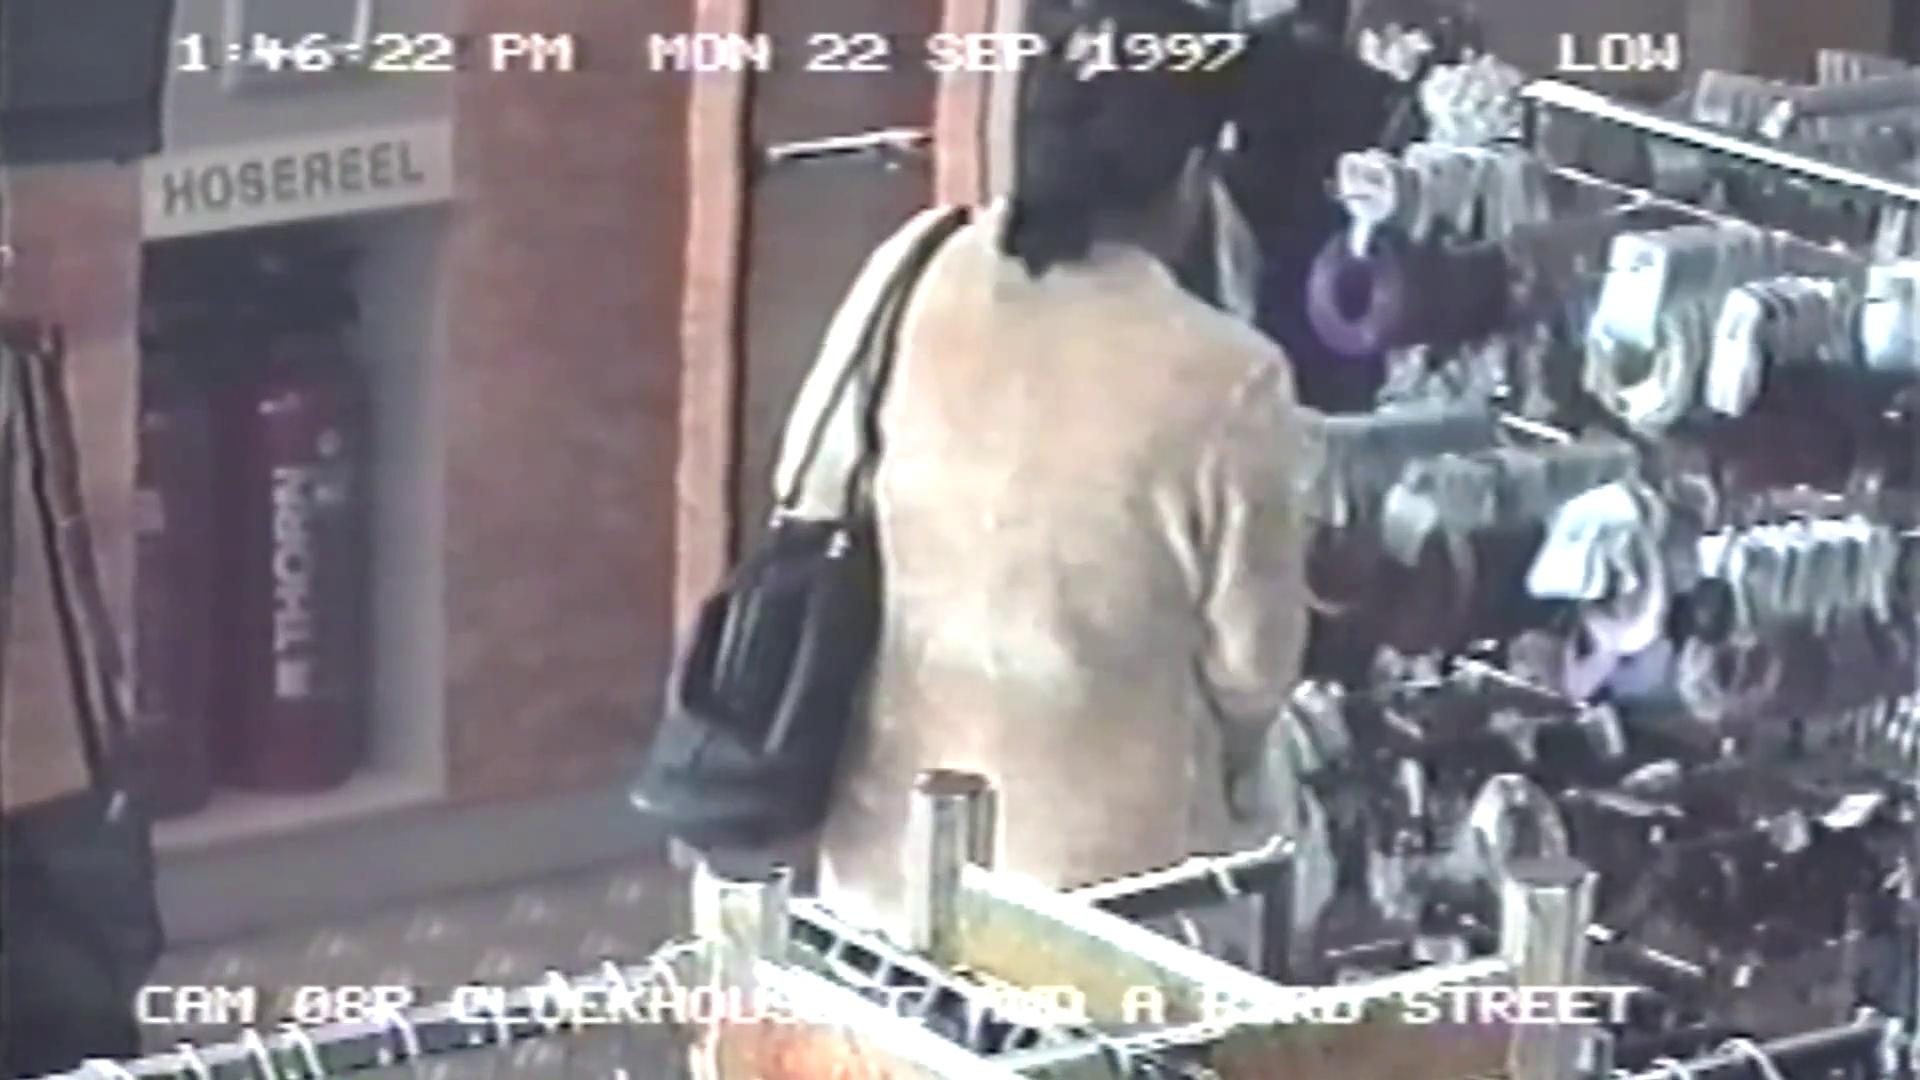4: (632, 12, 1398, 1080)
persone: (686, 585, 897, 857)
